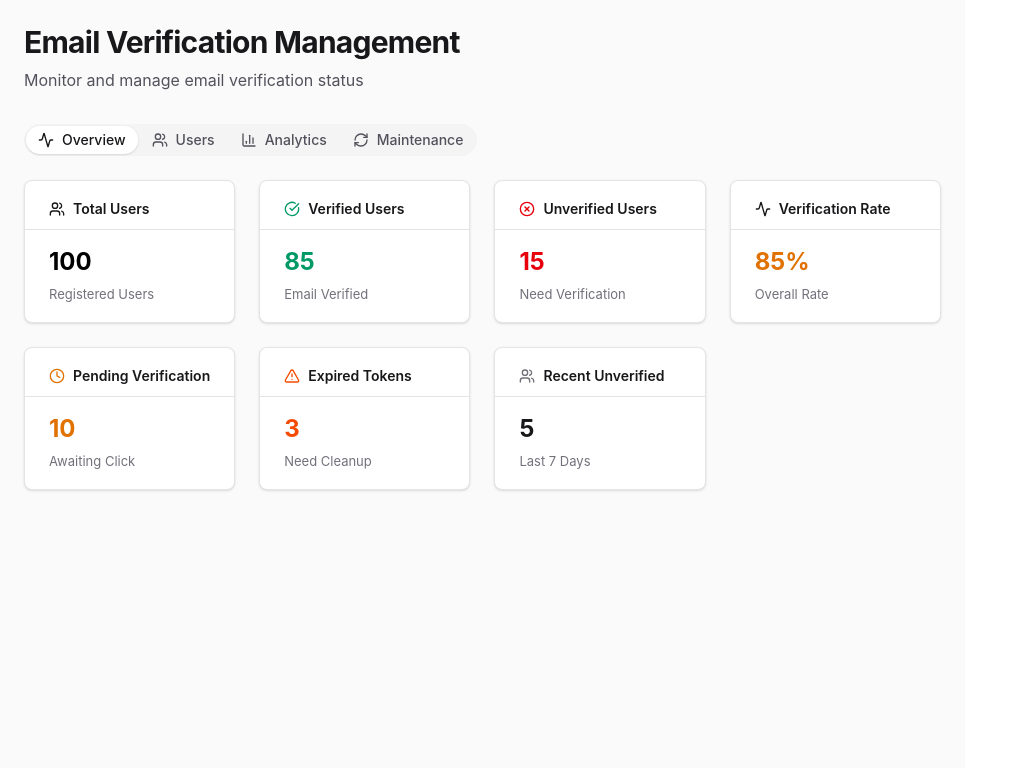
Scenario: EmailVerificationManagement › Users Tab › should handle resend verification successfully
Check: the heading "Total Users" is shown, box [49,200,149,217]
Click the button "Users".
click(183, 140)  # box [140,126,227,154]
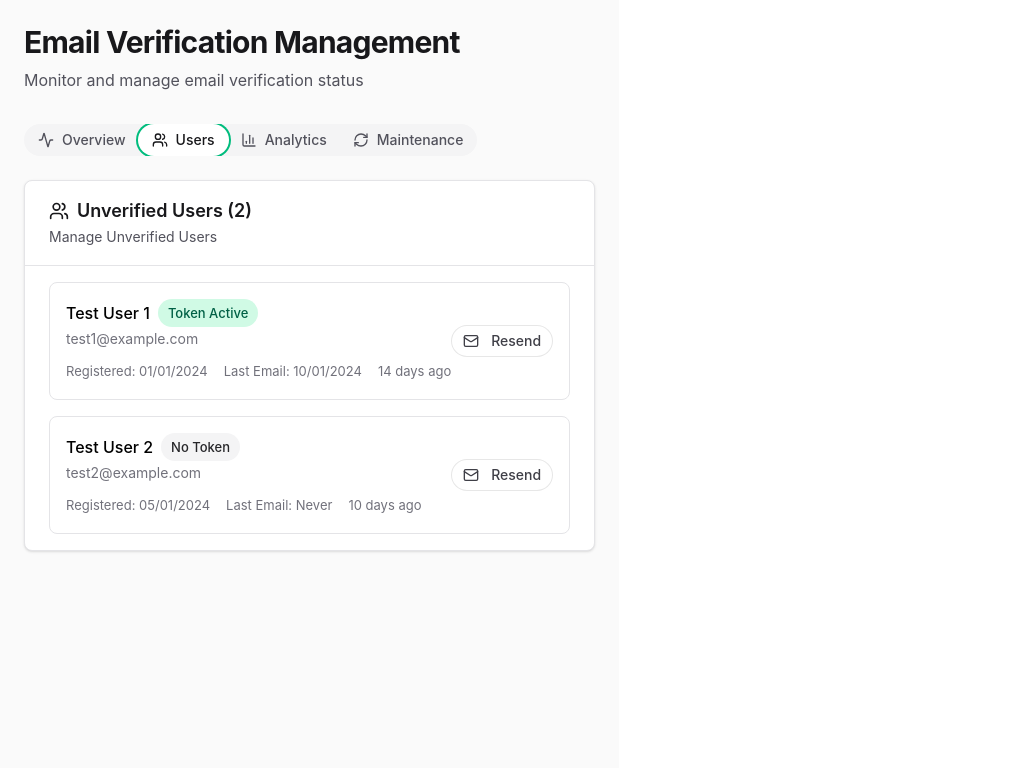
Check: the heading "Test User 1" is shown, box [66,301,150,325]
Click the button "Resend" in the row of "test1@example.com".
click(502, 341)  # box [451,325,553,357]
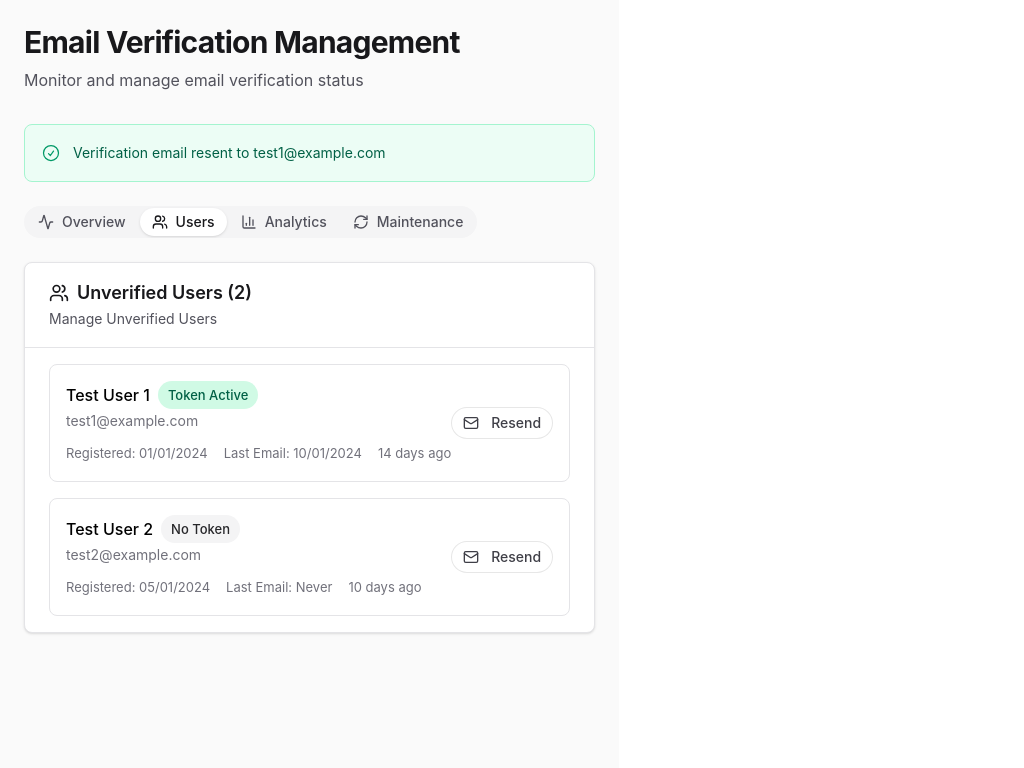
Check: the text "Verification email resent to test1@example.com" is shown, box [73,144,386,161]
